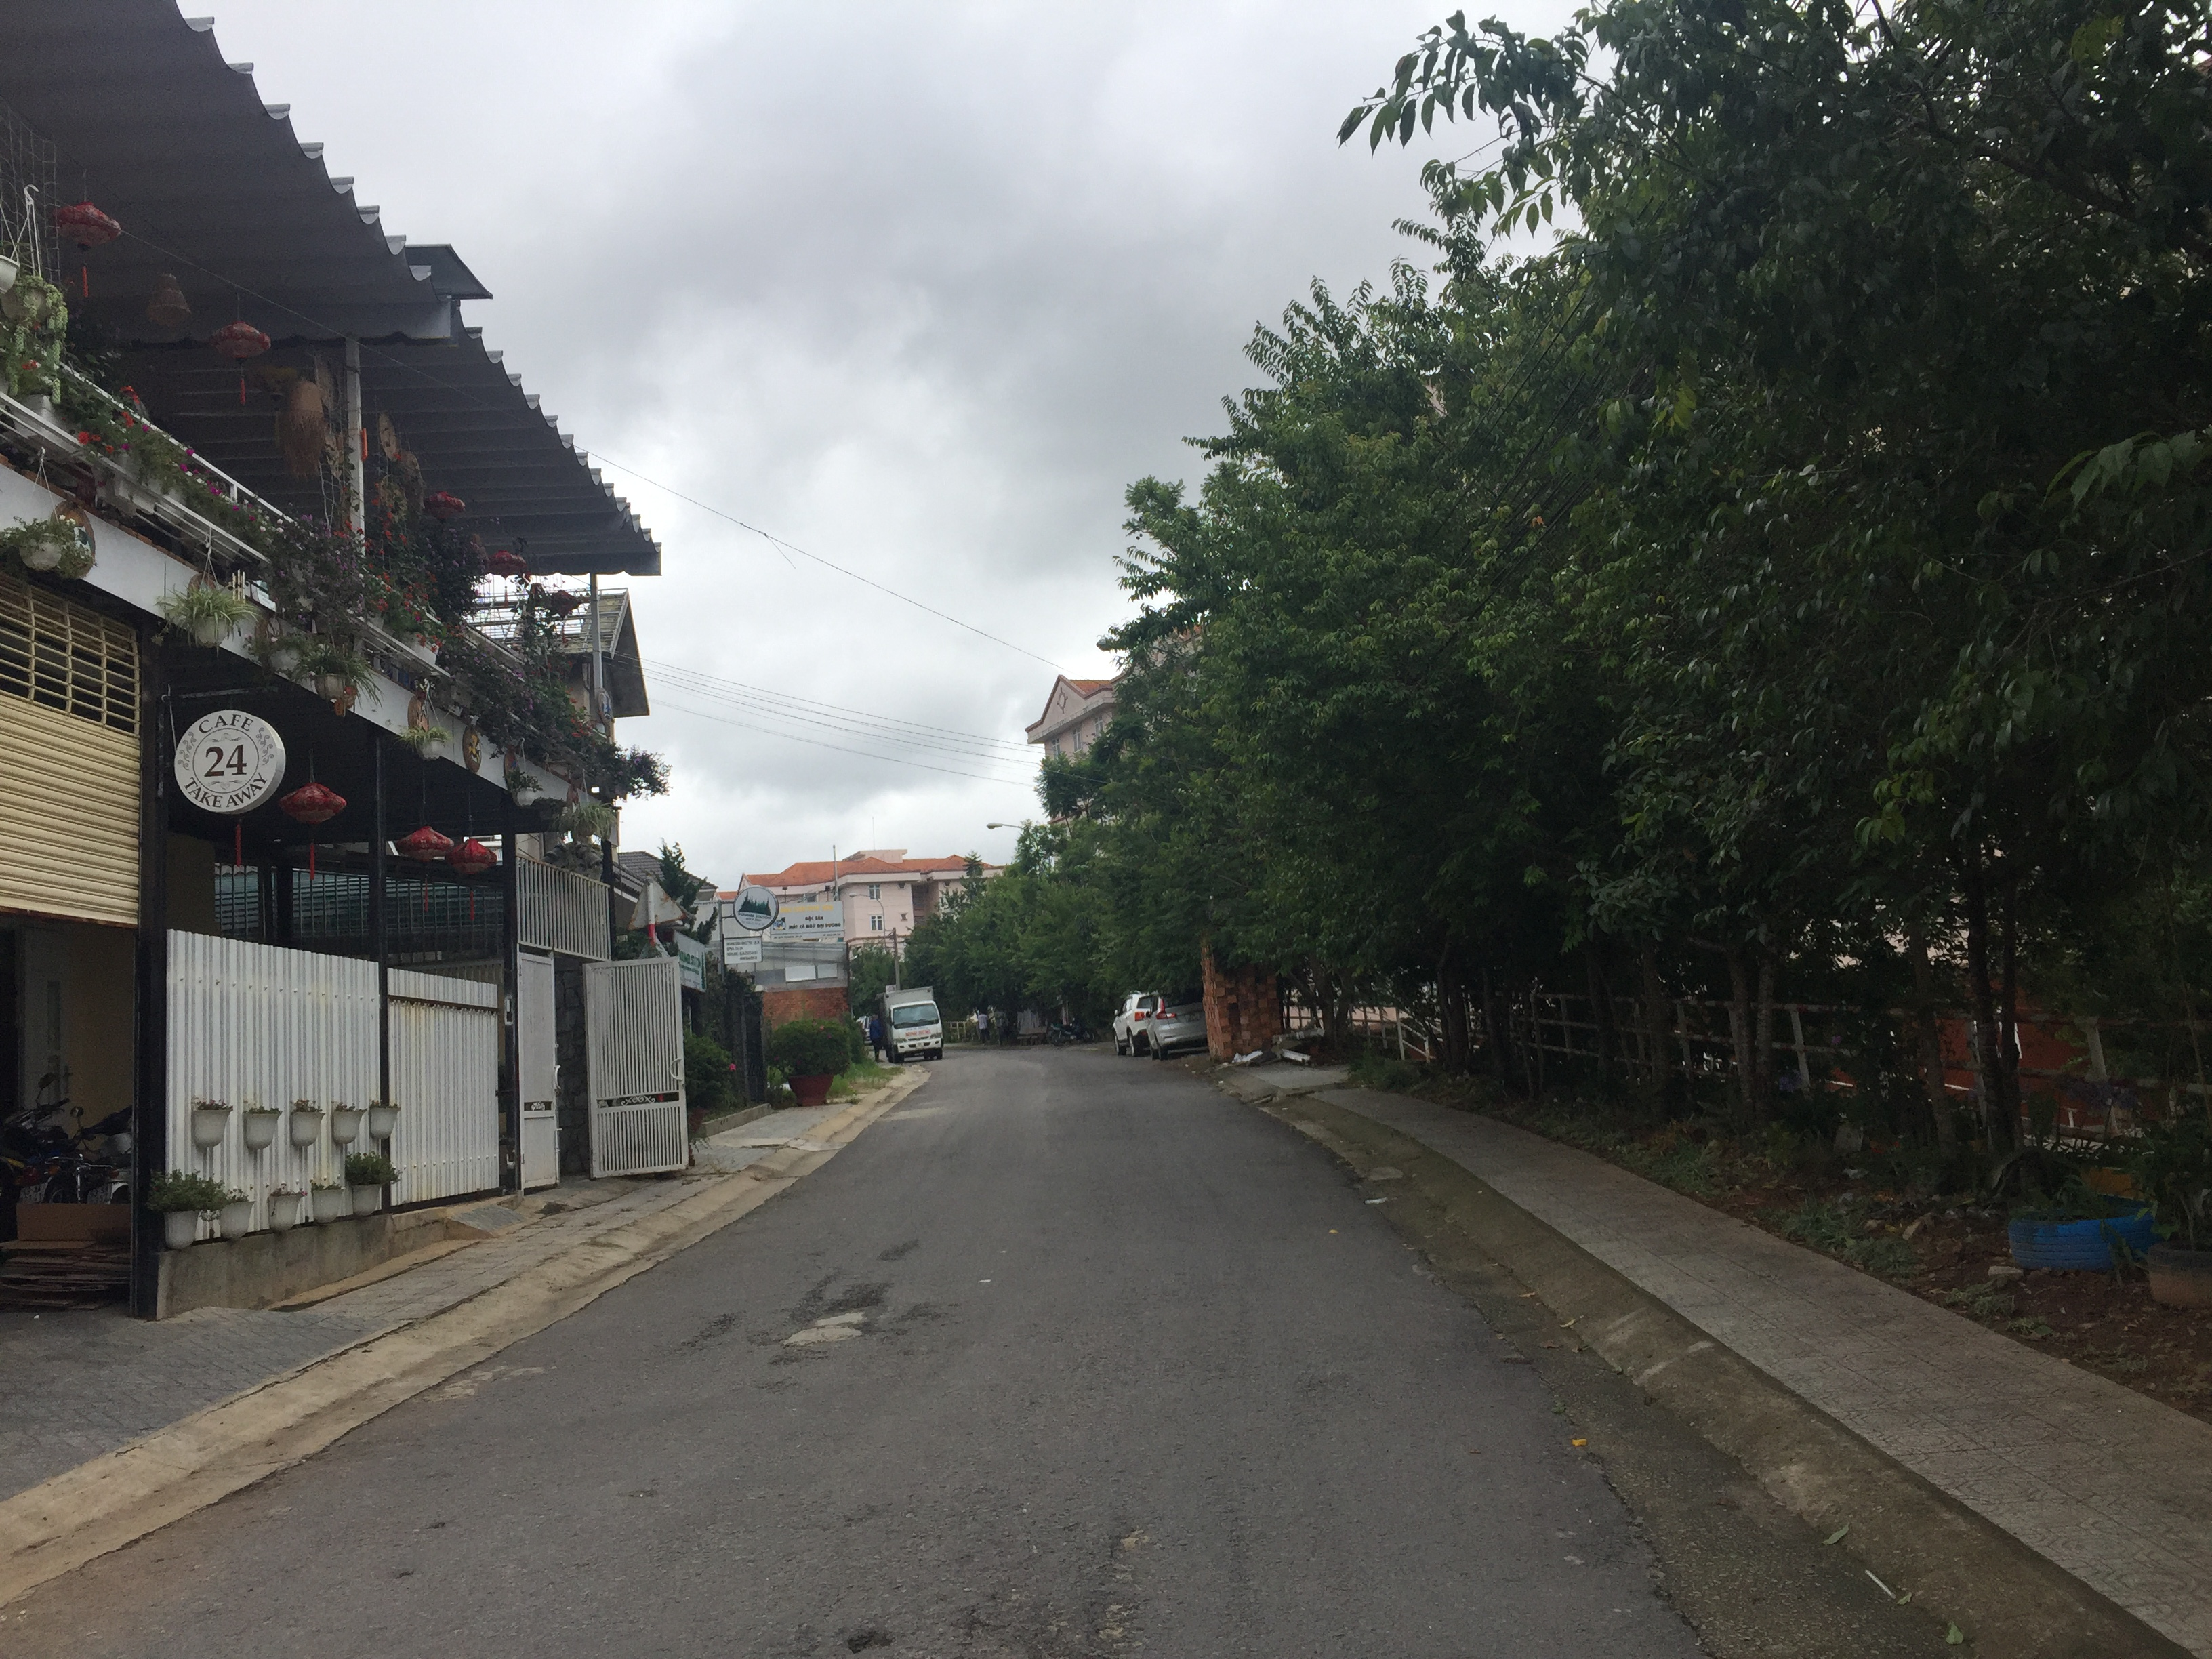hole: (810, 1293, 885, 1330), (836, 1629, 906, 1656), (394, 1565, 416, 1582), (423, 1520, 449, 1528)
